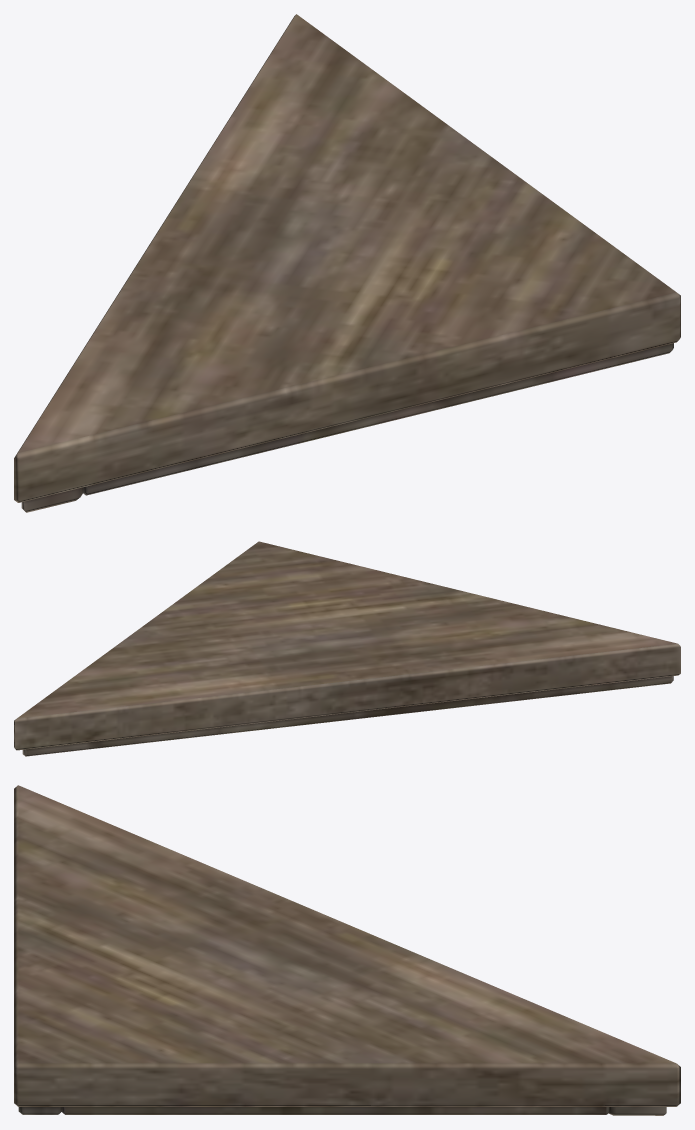
Rendered from SM_RoofTriangle_Wood_9a265f.glb.
3 views of the same model, one above another, from view 1: azimuth 30°, elevation 25°; view 2: azimuth 150°, elevation 25°; view 3: azimuth 270°, elevation 25° (orthographic). The views are drawn at different scales.
Size of the model in its own units: 4.01 by 0.3655 by 4.01.
1 material, 1 textured.
